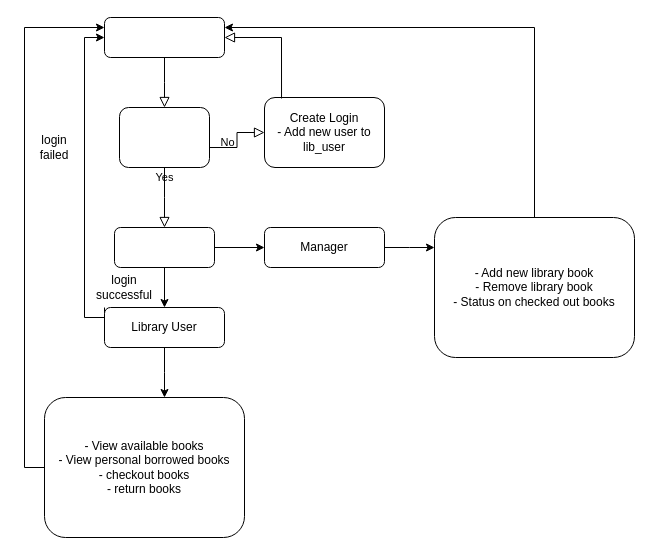
Image size: 652x555. Some labels were removed from this diagram. Here are the shapes that lost their labels. From the top down, the centre of each, then its label:
the point at 164,37: Welcome Prompt
the point at 164,137: Do you have a lib login?
the point at 164,247: Sign in
